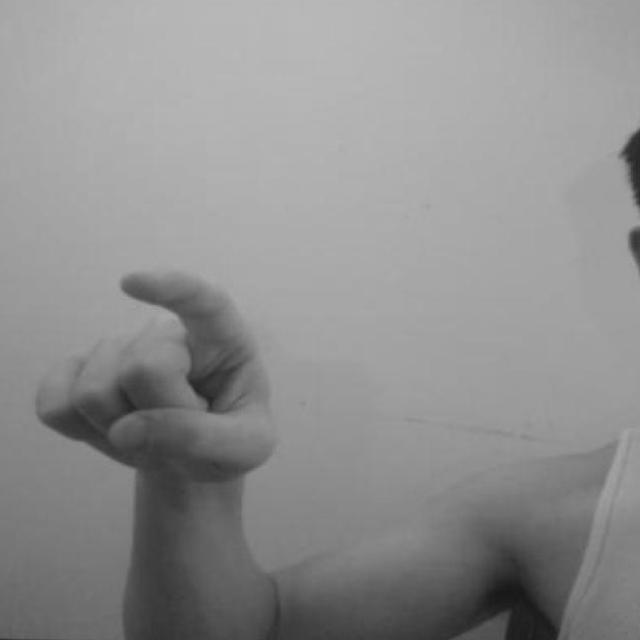Z: (26, 261, 292, 491)
